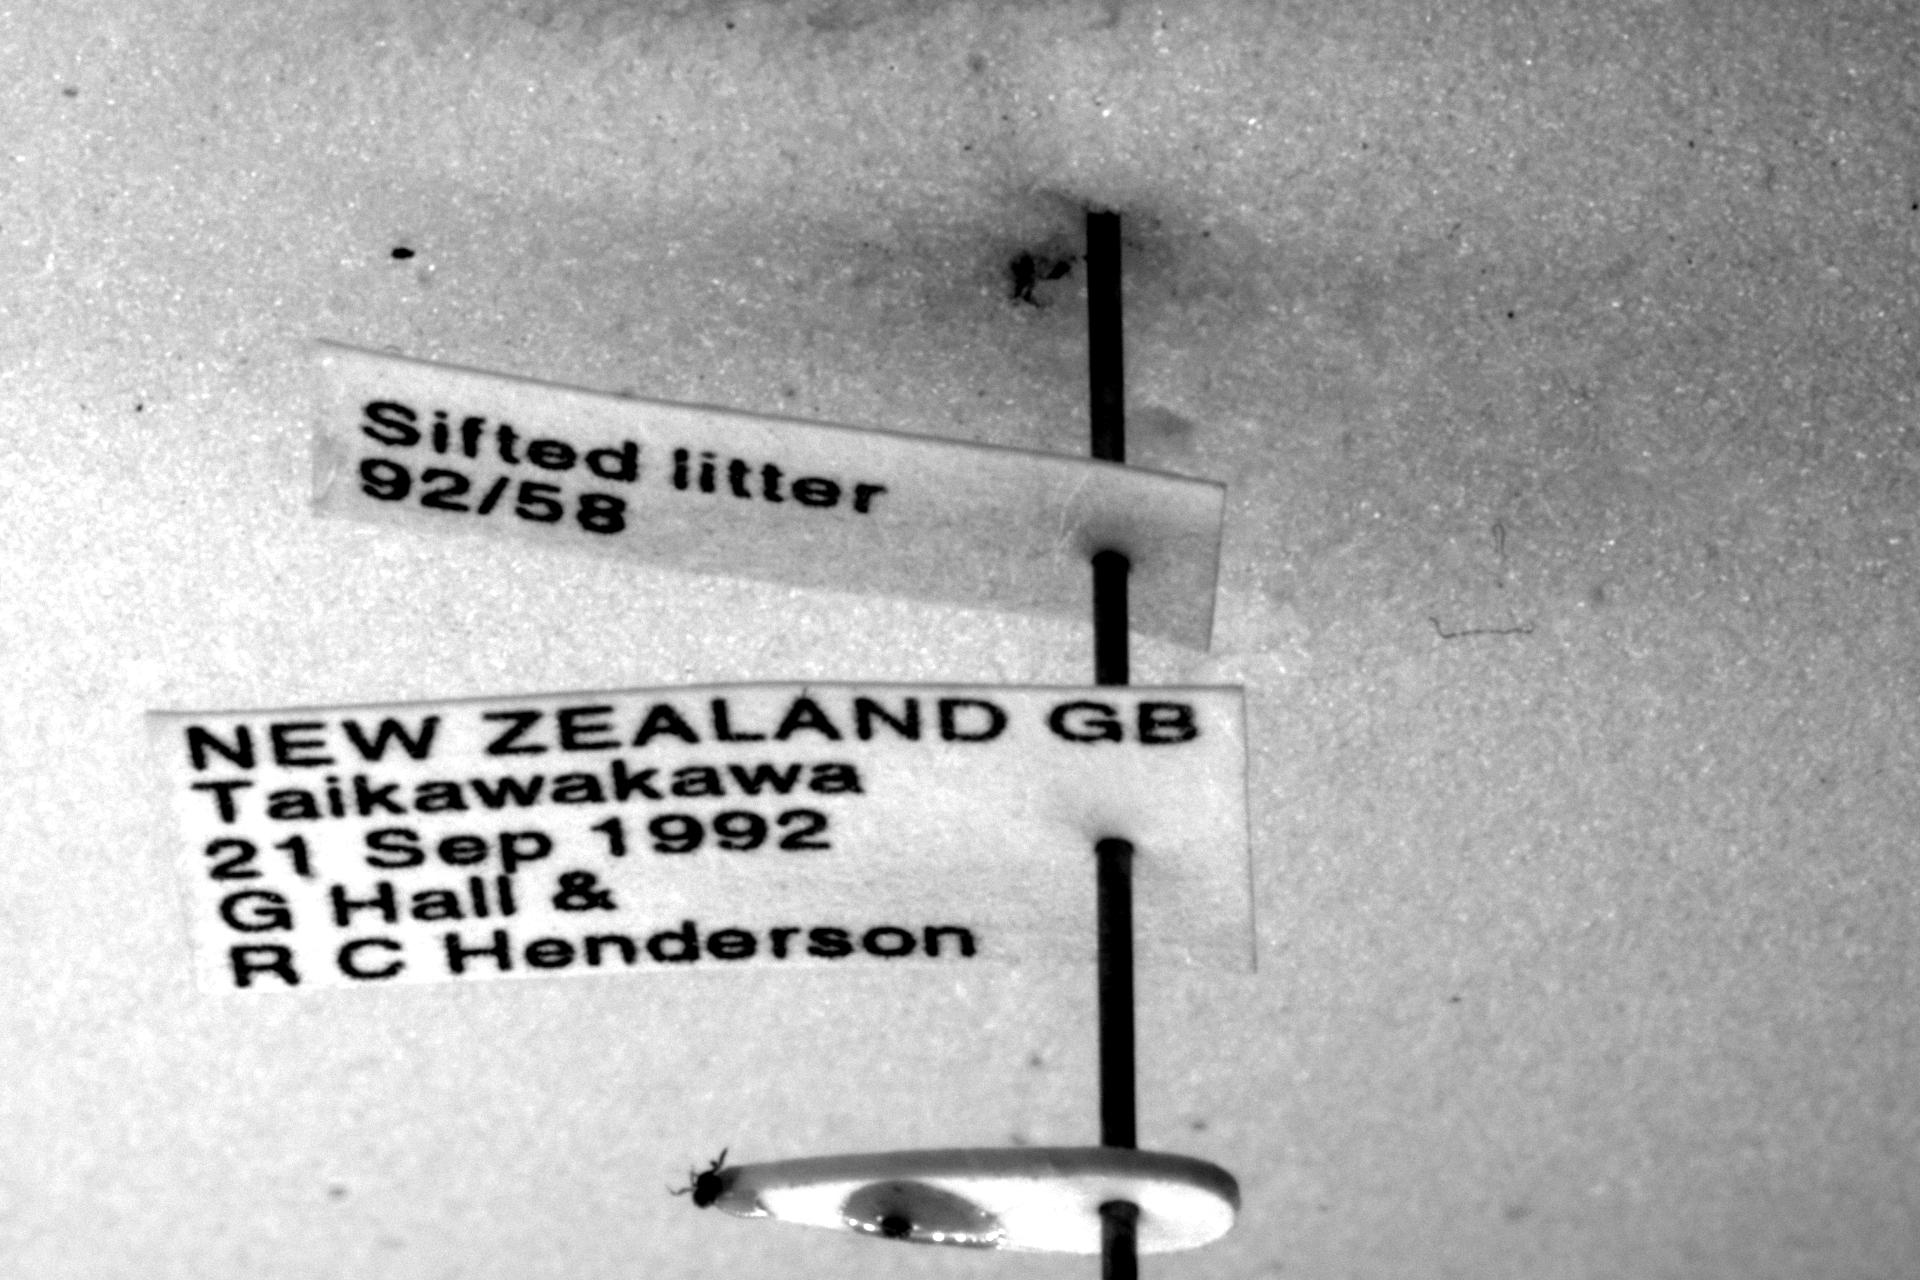typed_label: (150, 682, 1252, 990), (315, 341, 1222, 649)
